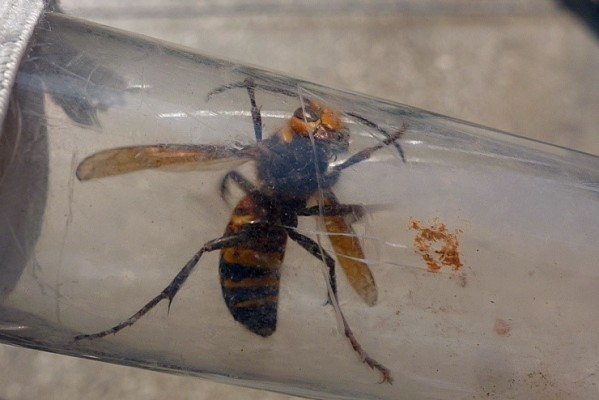asian_giant_hornet: (181, 98, 411, 340)
